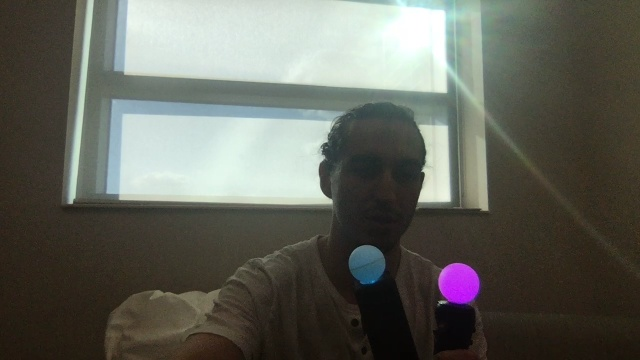wand: (438, 262, 480, 304), (349, 246, 388, 282)
